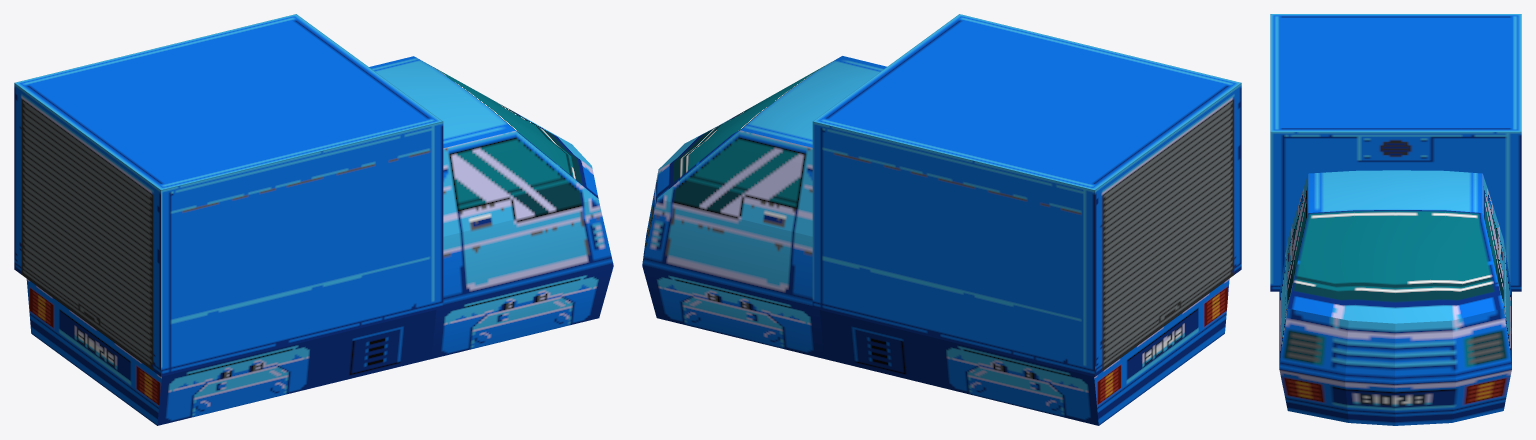
File: boxTruck.FBX
3 views of the same model, side by side, from view 1: azimuth 30°, elevation 25°; view 2: azimuth 150°, elevation 25°; view 3: azimuth 270°, elevation 25° (orthographic). The views are drawn at different scales.
Visible parts, largest first — view 1: truck_box, truck; view 2: truck_box, truck; view 3: truck, truck_box.
Part boxes in pixels (x1,y1,x2,y2): truck_box: (14, 14, 443, 376); truck: (26, 56, 613, 425); truck_box: (812, 14, 1241, 376); truck: (642, 56, 1229, 425); truck: (1279, 170, 1511, 425); truck_box: (1270, 14, 1521, 291).
Bounding box in the file's own units: 57.22 × 27.1 × 29.47.
Materials: 2 (2 with a texture image).
